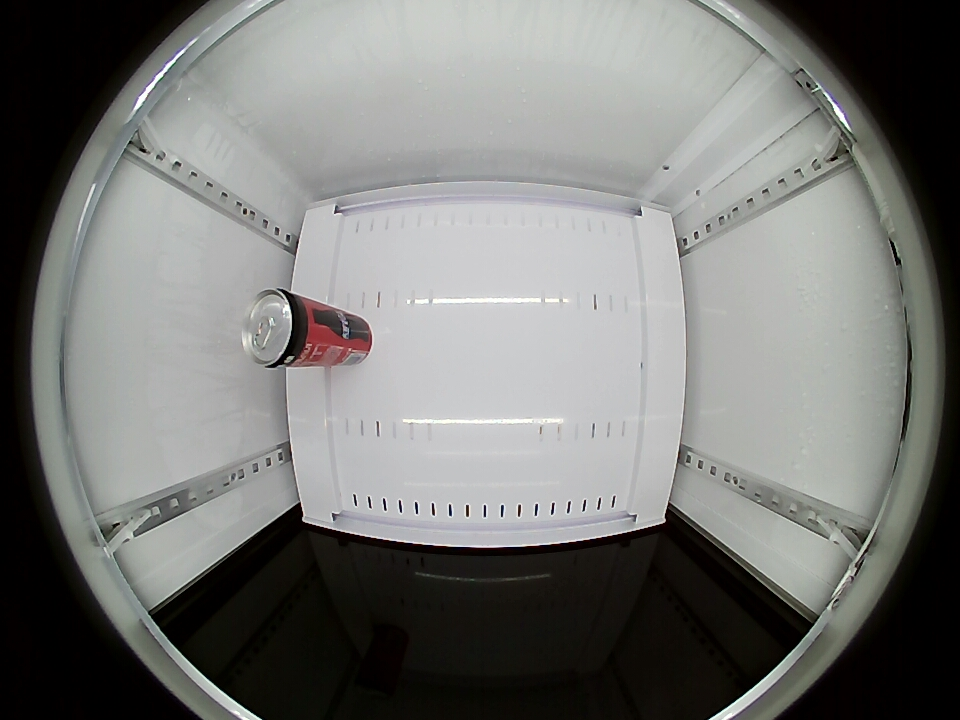lingdukele: (243, 288, 319, 369)
